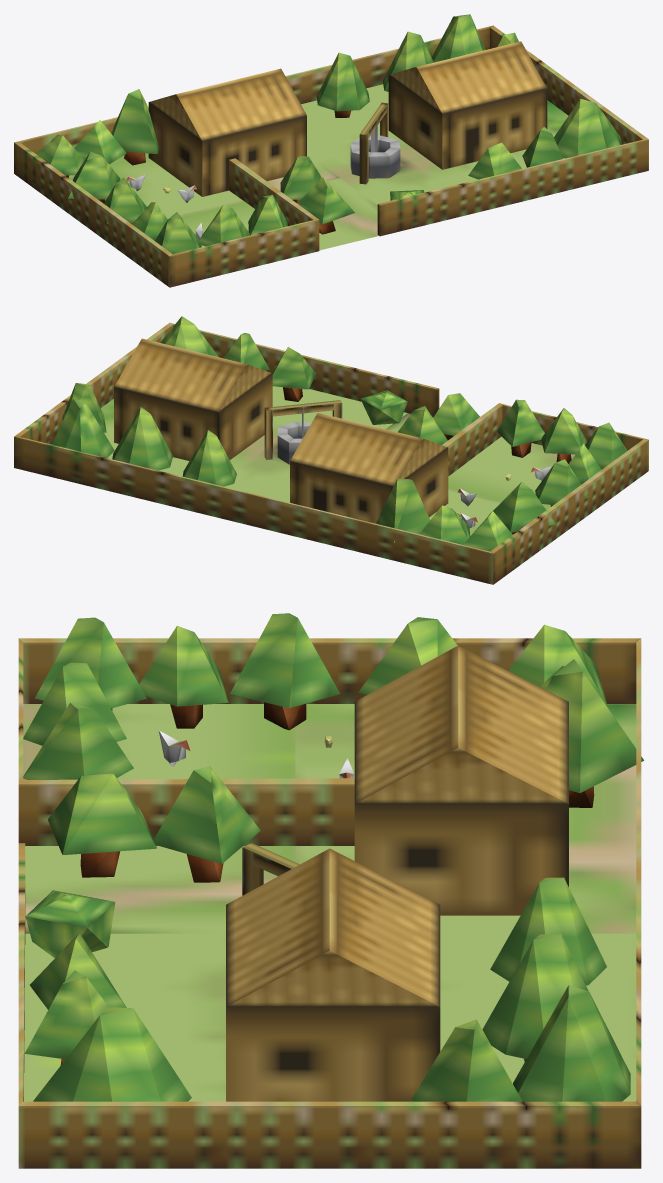
File: Poly_World_Map_Town_House_07.obj
3 renders of one model, top to bottom at view 1: azimuth 30°, elevation 25°; view 2: azimuth 150°, elevation 25°; view 3: azimuth 270°, elevation 25°, orthographic. The views are drawn at different scales.
Parts seen in each view (by area): view 1: Grid_Grid.001, Cube.001_Cube.001_Cube.001_Cube.003, Cube.002_Cube.002_Cube.002_Cube.008, Cube.002_Cube.003_Cube.002_Cube.007, Plane_Plane.002, Cube.003_Cube.004_Cube.003_Cube.002, Cube.004_Cube.005_Cube.004_Cube.002, chickens_Cube.002; view 2: Grid_Grid.001, Cube.001_Cube.001_Cube.001_Cube.003, Cube.002_Cube.002_Cube.002_Cube.008, Cube.002_Cube.003_Cube.002_Cube.007, Plane_Plane.002, Cube.004_Cube.005_Cube.004_Cube.002, Cube.003_Cube.004_Cube.003_Cube.002, chickens_Cube.002; view 3: Cube.001_Cube.001_Cube.001_Cube.003, Grid_Grid.001, Plane_Plane.002, Cube.002_Cube.003_Cube.002_Cube.007, Cube.002_Cube.002_Cube.002_Cube.008, Cube.004_Cube.005_Cube.004_Cube.002, chickens_Cube.002.
Part boxes in pixels (x1=…): Grid_Grid.001: x1=14, y1=25, x2=648, y2=287; Cube.001_Cube.001_Cube.001_Cube.003: x1=36, y1=14, x2=621, y2=254; Cube.002_Cube.002_Cube.002_Cube.008: x1=388, y1=41, x2=547, y2=169; Cube.002_Cube.003_Cube.002_Cube.007: x1=148, y1=68, x2=306, y2=196; Plane_Plane.002: x1=68, y1=84, x2=568, y2=250; Cube.003_Cube.004_Cube.003_Cube.002: x1=350, y1=135, x2=400, y2=178; Cube.004_Cube.005_Cube.004_Cube.002: x1=359, y1=102, x2=388, y2=184; chickens_Cube.002: x1=126, y1=174, x2=203, y2=239; Grid_Grid.001: x1=14, y1=322, x2=648, y2=584; Cube.001_Cube.001_Cube.001_Cube.003: x1=52, y1=316, x2=627, y2=551; Cube.002_Cube.002_Cube.002_Cube.008: x1=114, y1=338, x2=272, y2=460; Cube.002_Cube.003_Cube.002_Cube.007: x1=290, y1=413, x2=448, y2=523; Plane_Plane.002: x1=51, y1=386, x2=575, y2=535; Cube.004_Cube.005_Cube.004_Cube.002: x1=264, y1=400, x2=342, y2=460; Cube.003_Cube.004_Cube.003_Cube.002: x1=277, y1=422, x2=311, y2=464; chickens_Cube.002: x1=457, y1=466, x2=552, y2=528; Cube.001_Cube.001_Cube.001_Cube.003: x1=23, y1=613, x2=643, y2=1101; Grid_Grid.001: x1=18, y1=638, x2=641, y2=1168; Plane_Plane.002: x1=23, y1=704, x2=636, y2=1101; Cube.002_Cube.003_Cube.002_Cube.007: x1=354, y1=645, x2=568, y2=915; Cube.002_Cube.002_Cube.002_Cube.008: x1=226, y1=848, x2=440, y2=1101; Cube.004_Cube.005_Cube.004_Cube.002: x1=242, y1=843, x2=299, y2=895; chickens_Cube.002: x1=158, y1=730, x2=353, y2=778.
Bounding box in the file's own units: 1.62 × 0.2708 × 0.9046.
1 material, 1 textured.
